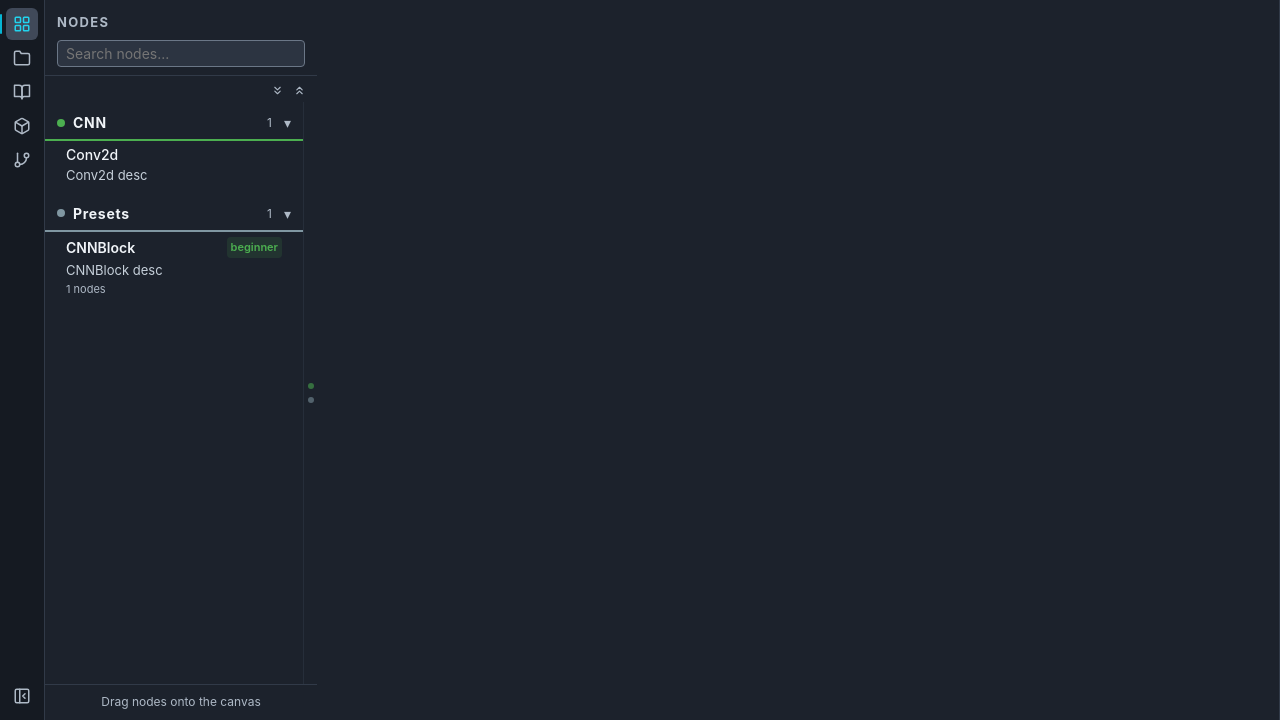
Test: NodePalette (sidebar shell) › mounts only the open tab, and swaps panels from the rail
Expected: the text "Conv2d" is shown, [66, 146, 118, 163]
Expected: the field with placeholder "Search saved graphs..." is not shown
Click the tab named "Graphs".
click(22, 58)  # box [6, 42, 38, 74]
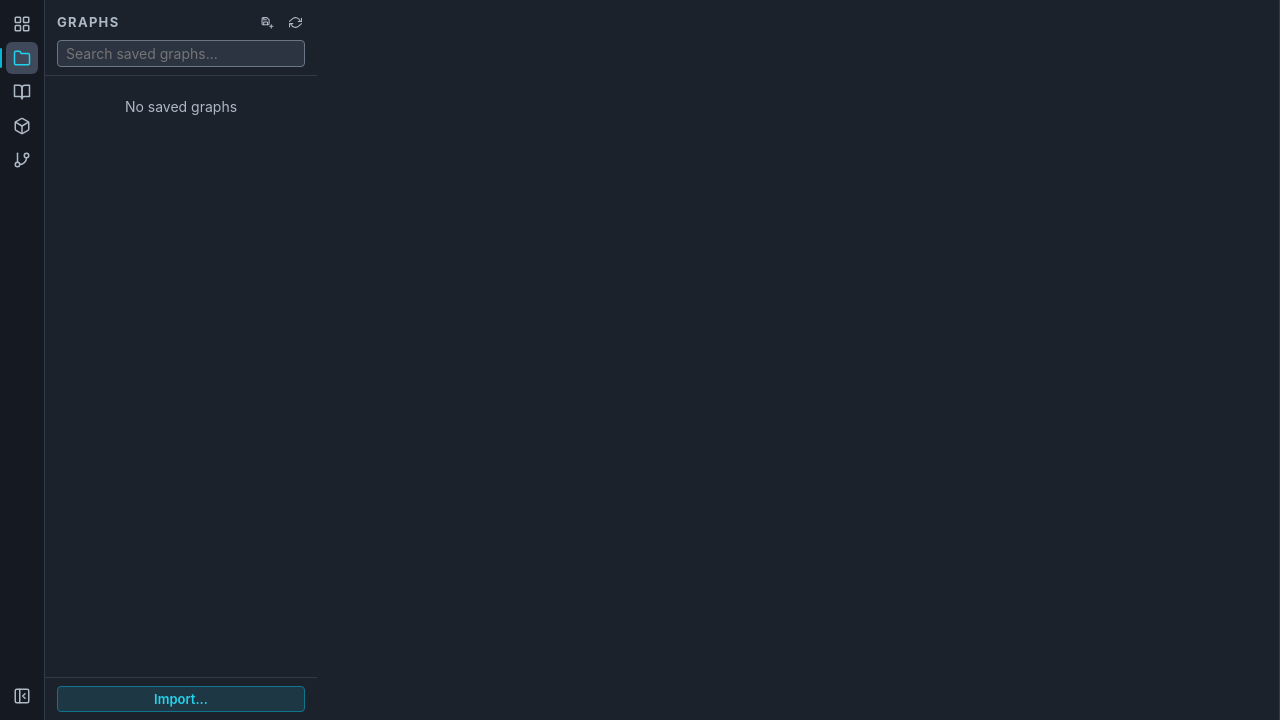
Expected: the text "No saved graphs" is shown, [125, 98, 237, 115]
Expected: the text "Conv2d" is gone
Expected: the text "CNNBlock" is gone
Click the tab named "Templates".
click(22, 92)  # box [6, 76, 38, 108]
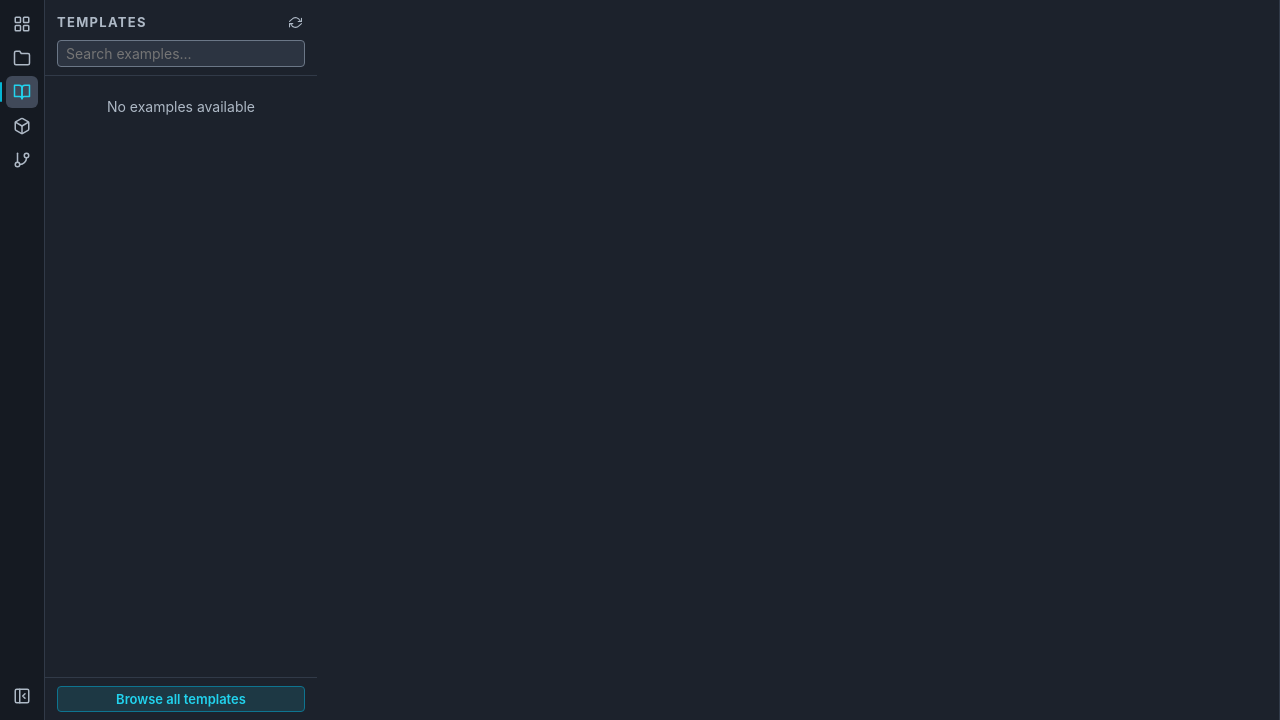
Expected: the text "No examples available" is shown, [107, 98, 255, 115]
Click the tab named "Custom & Plugins".
click(22, 126)  # box [6, 110, 38, 142]
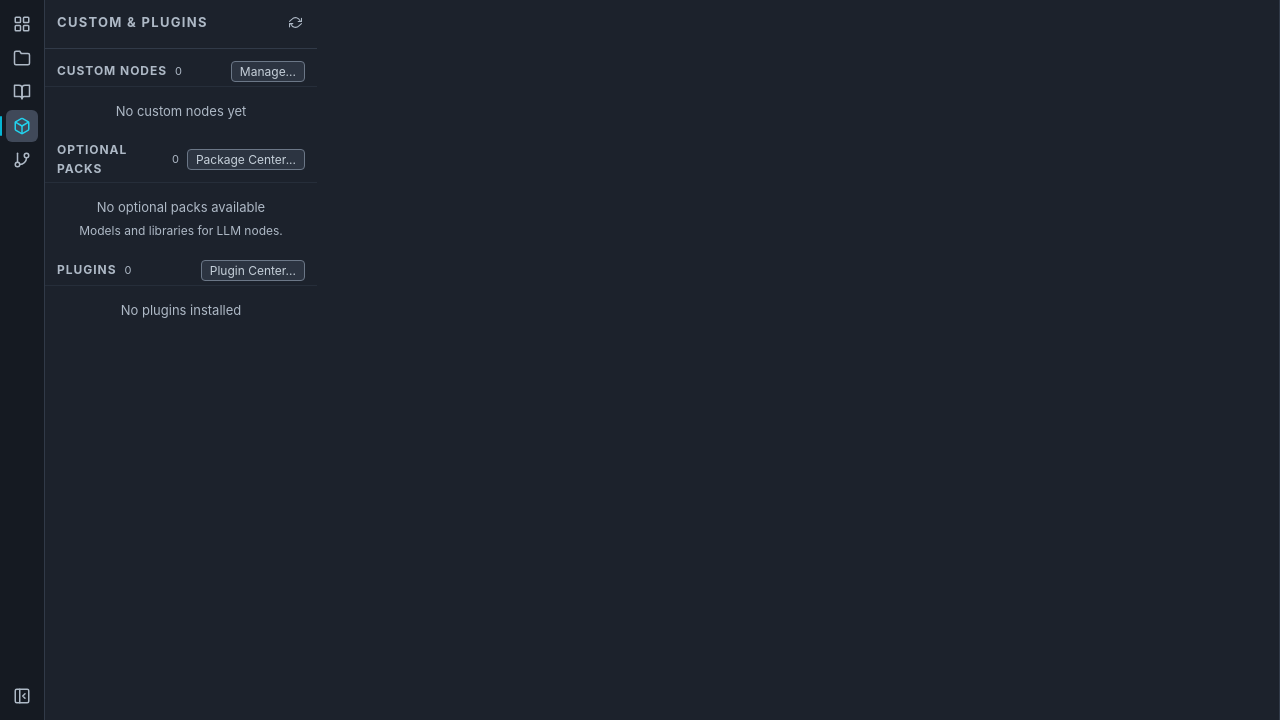
Expected: the text "No custom nodes yet" is shown, [116, 103, 246, 119]
Click the tab named "Nodes".
click(22, 24)  # box [6, 8, 38, 40]
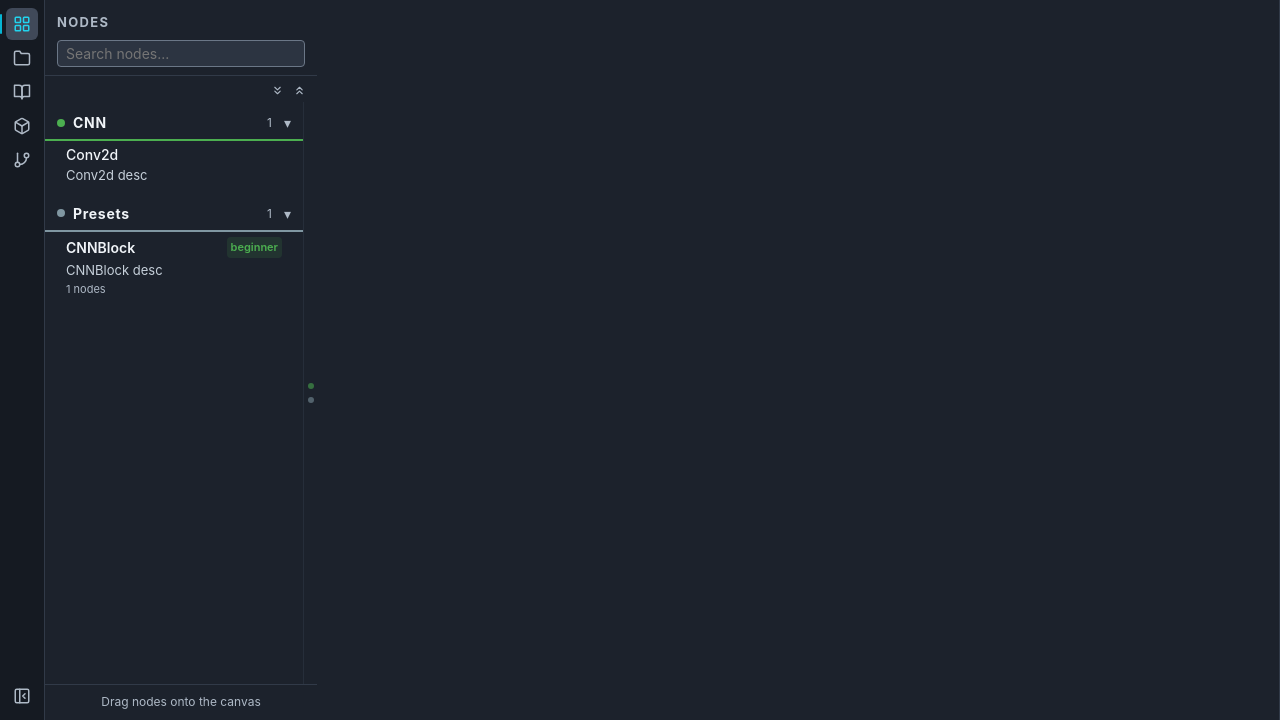
Expected: the text "Conv2d" is shown, [66, 146, 118, 163]
